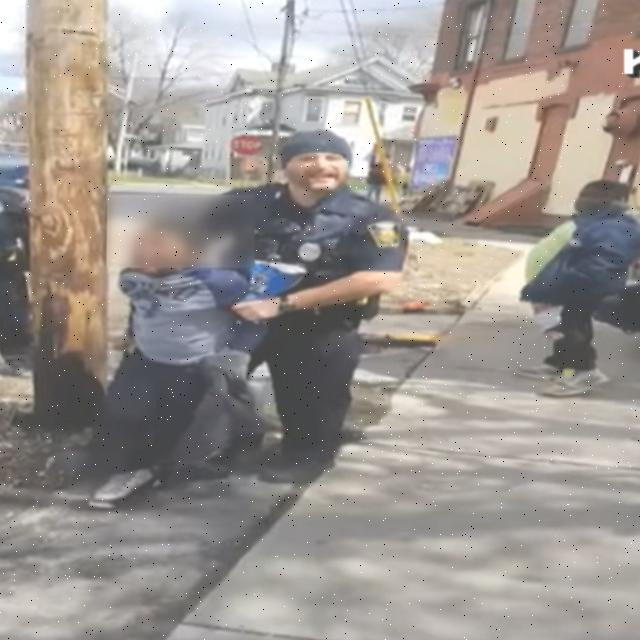police: (210, 118, 420, 480)
